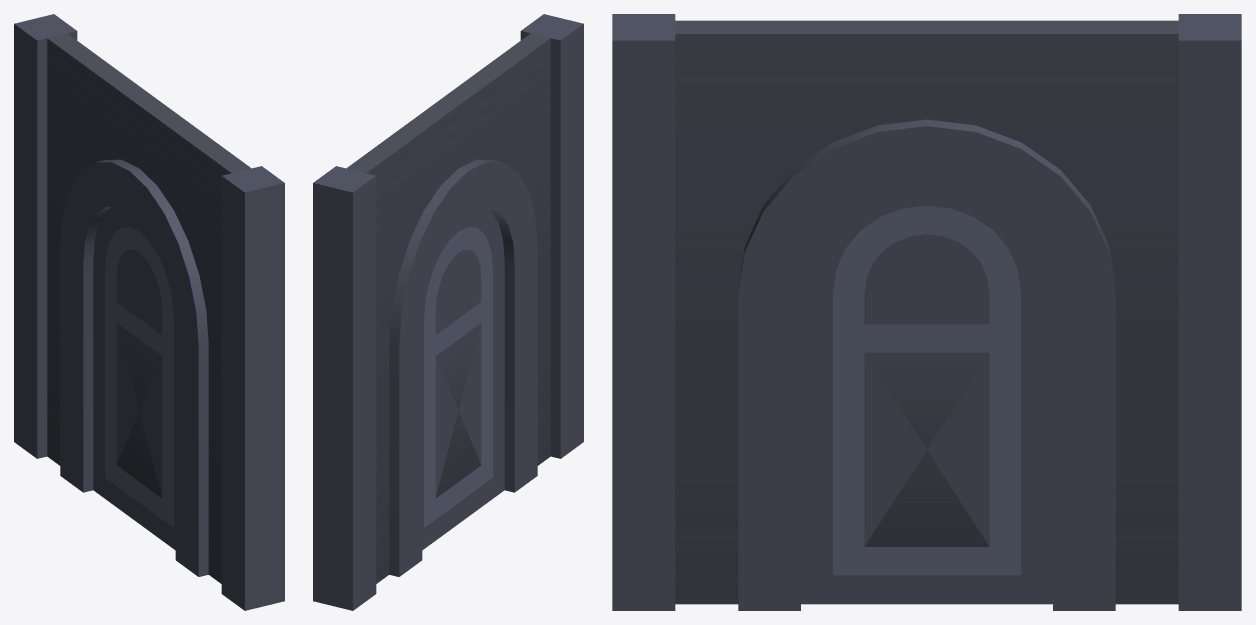
File: wall-door.glb
The picture shows the model from 3 angles, left to right: view 1: azimuth 30°, elevation 25°; view 2: azimuth 150°, elevation 25°; view 3: azimuth 270°, elevation 25°; orthographic projection. The views are drawn at different scales.
Visible parts, largest first — view 1: wall-door, door; view 2: wall-door, door; view 3: wall-door, door.
Part boxes in pixels (<box>): wall-door: <box>14,14,284,610</box>; door: <box>93,207,175,550</box>; wall-door: <box>313,14,583,610</box>; door: <box>422,207,504,550</box>; wall-door: <box>612,14,1241,610</box>; door: <box>801,183,1052,604</box>.
Size of the model in its own units: 0.1 by 1 by 1.
Materials: 1 (1 with a texture image).
